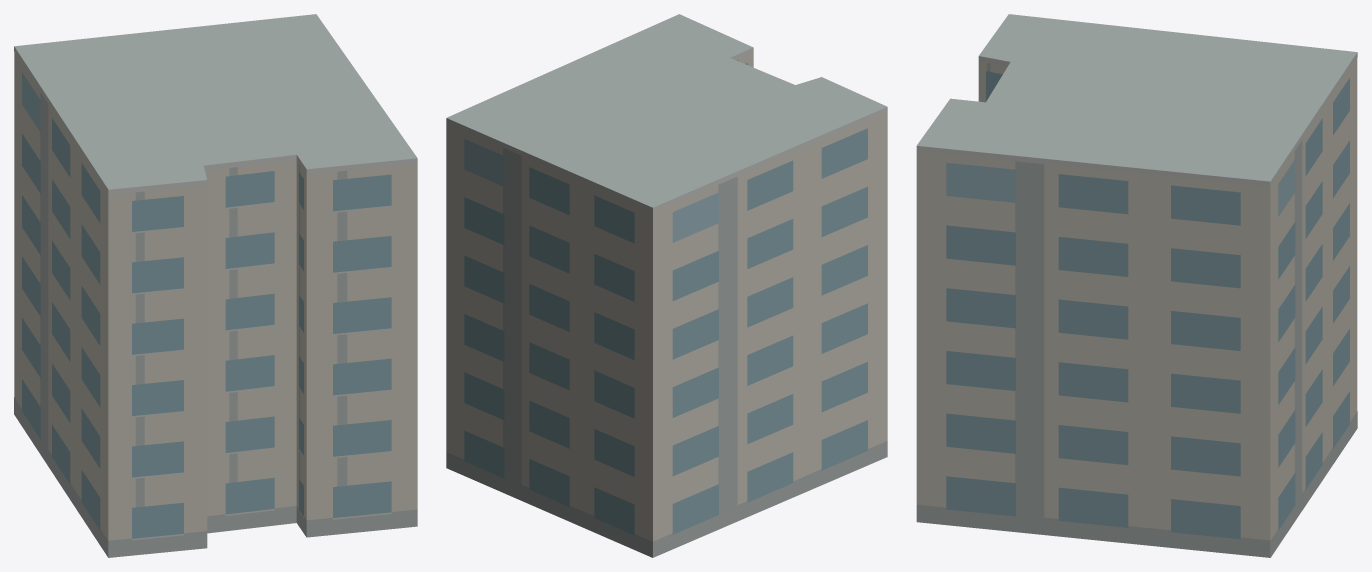
File: survey-upis-32831190.glb
3 views of the same model, side by side, from view 1: azimuth 30°, elevation 25°; view 2: azimuth 150°, elevation 25°; view 3: azimuth 270°, elevation 25° (orthographic). The views are drawn at different scales.
Parts seen in each view (by area): view 1: survey-upis-32831190.tmp; view 2: survey-upis-32831190.tmp; view 3: survey-upis-32831190.tmp.
Boxes of the visible parts, <box> form: survey-upis-32831190.tmp: <box>14,14,417,557</box>; survey-upis-32831190.tmp: <box>446,14,887,557</box>; survey-upis-32831190.tmp: <box>916,14,1357,557</box>.
Bounding box in the file's own units: 15.91 × 16.65 × 17.69.
